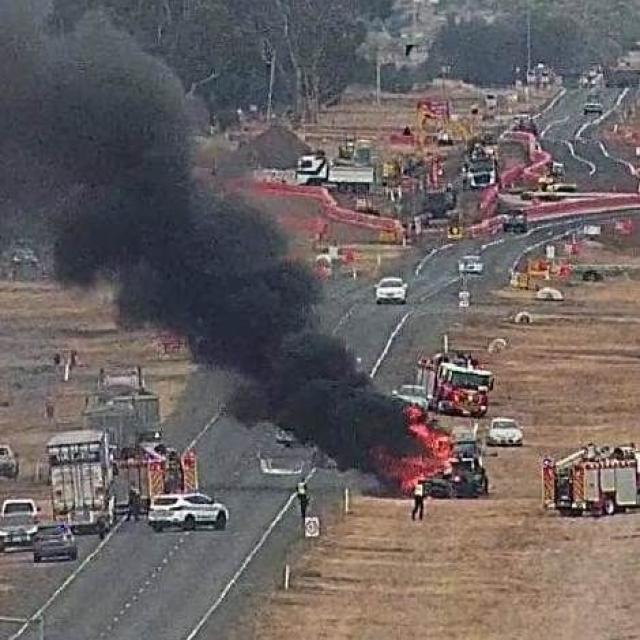Smoke: (48, 51, 244, 338)
